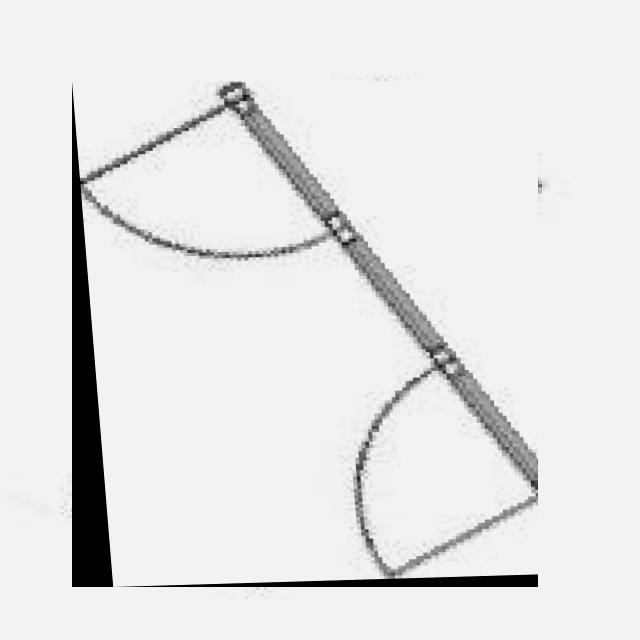door: (72, 81, 538, 587)
